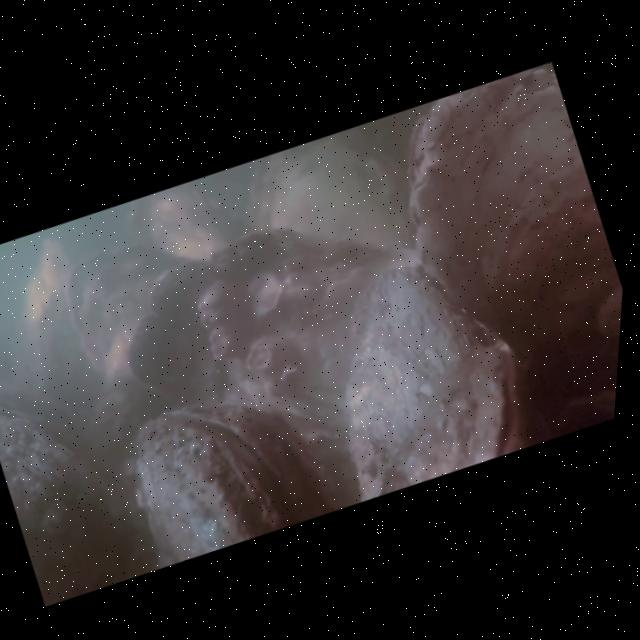Oyster-Closed: (408, 68, 617, 347), (345, 262, 526, 501), (134, 406, 331, 568), (0, 390, 123, 533)
Oyster-Indeterminate: (125, 230, 420, 444), (65, 244, 198, 378), (250, 135, 410, 246), (128, 181, 233, 254)
